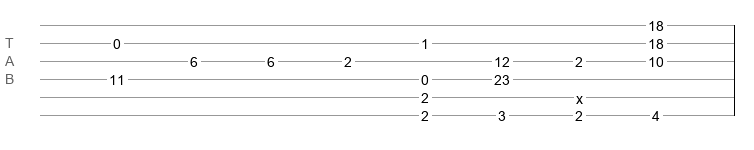0: (113, 36, 121, 46), (421, 72, 429, 82)
1: (421, 36, 429, 46)
10: (648, 54, 664, 64)
11: (109, 72, 125, 82)
12: (494, 54, 510, 64)
18: (648, 18, 664, 28), (648, 36, 664, 46)
2: (344, 54, 352, 64), (421, 90, 429, 100), (421, 108, 429, 118), (575, 54, 583, 64), (575, 108, 583, 118)
23: (494, 72, 510, 82)
3: (498, 108, 506, 118)
4: (652, 108, 660, 118)
6: (190, 54, 198, 64), (267, 54, 275, 64)
x: (576, 91, 583, 99)
